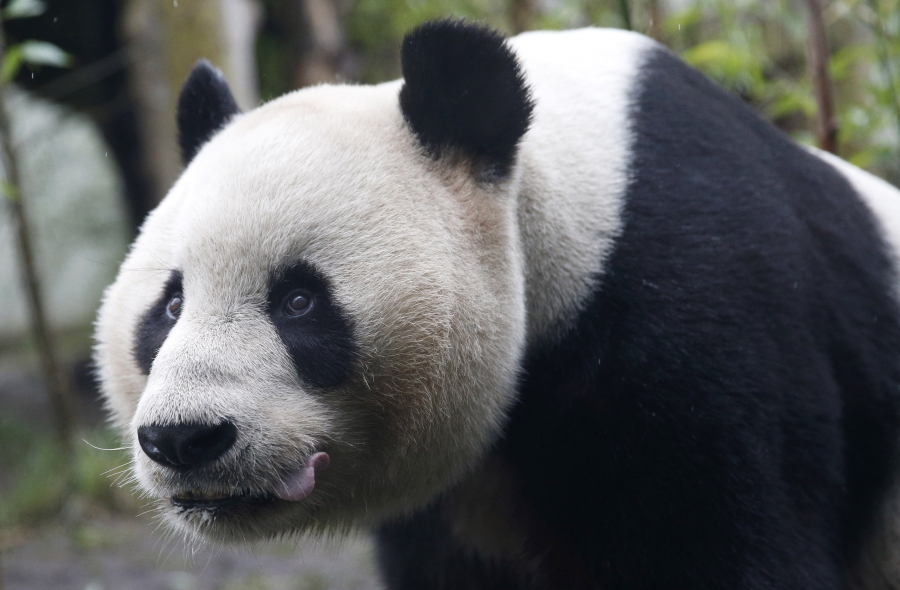panda: (102, 8, 863, 590)
